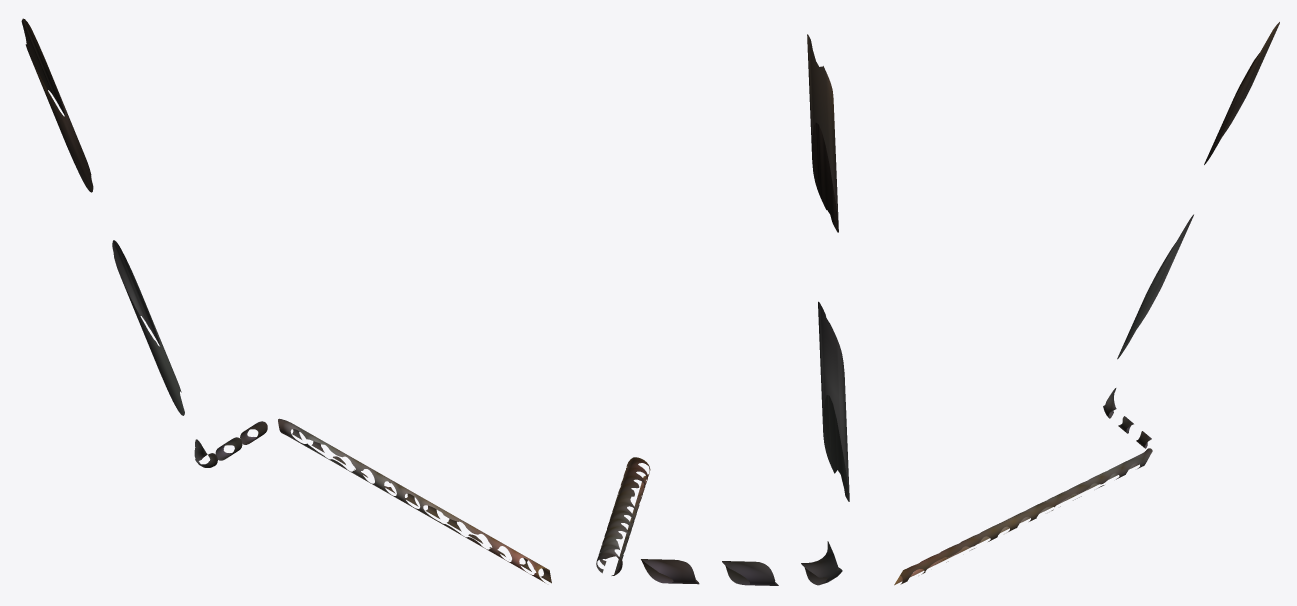
The model's file is wire4.fbx.
The picture shows the model from 3 angles, left to right: view 1: azimuth 30°, elevation 25°; view 2: azimuth 150°, elevation 25°; view 3: azimuth 270°, elevation 25°; orthographic projection. The views are drawn at different scales.
Parts seen in each view (by area): view 1: wire4; view 2: wire4; view 3: wire4.
Part boxes in pixels (x1=…): wire4: x1=21, y1=18, x2=551, y2=583; wire4: x1=596, y1=34, x2=849, y2=585; wire4: x1=894, y1=22, x2=1279, y2=585.
Size of the model in its own units: 2.31 by 3.27 by 2.73.
1 material, 1 textured.
